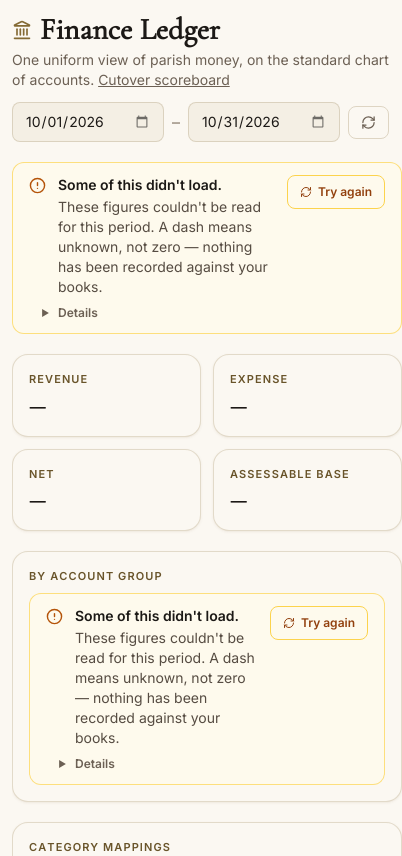
Test: RETRY › recovers the summary in place after a failure
Click the 1st button "Try again" at (336,192), box x1=287 y1=175 x2=385 y2=209
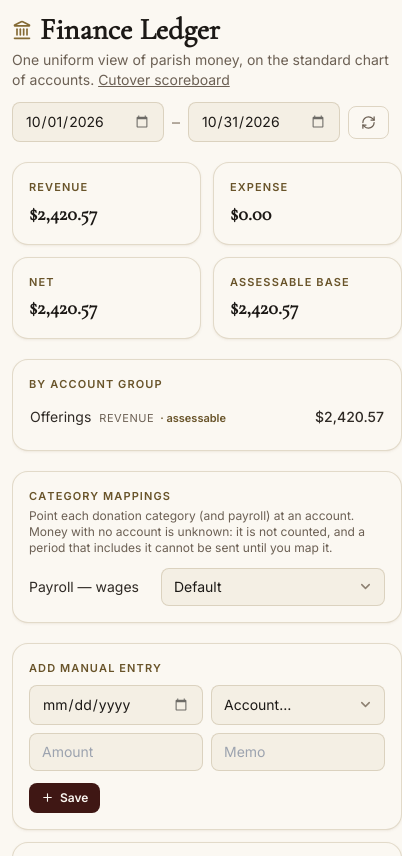
Check: the 1st text "$2,420.57" is shown, box x1=29 y1=202 x2=98 y2=226
